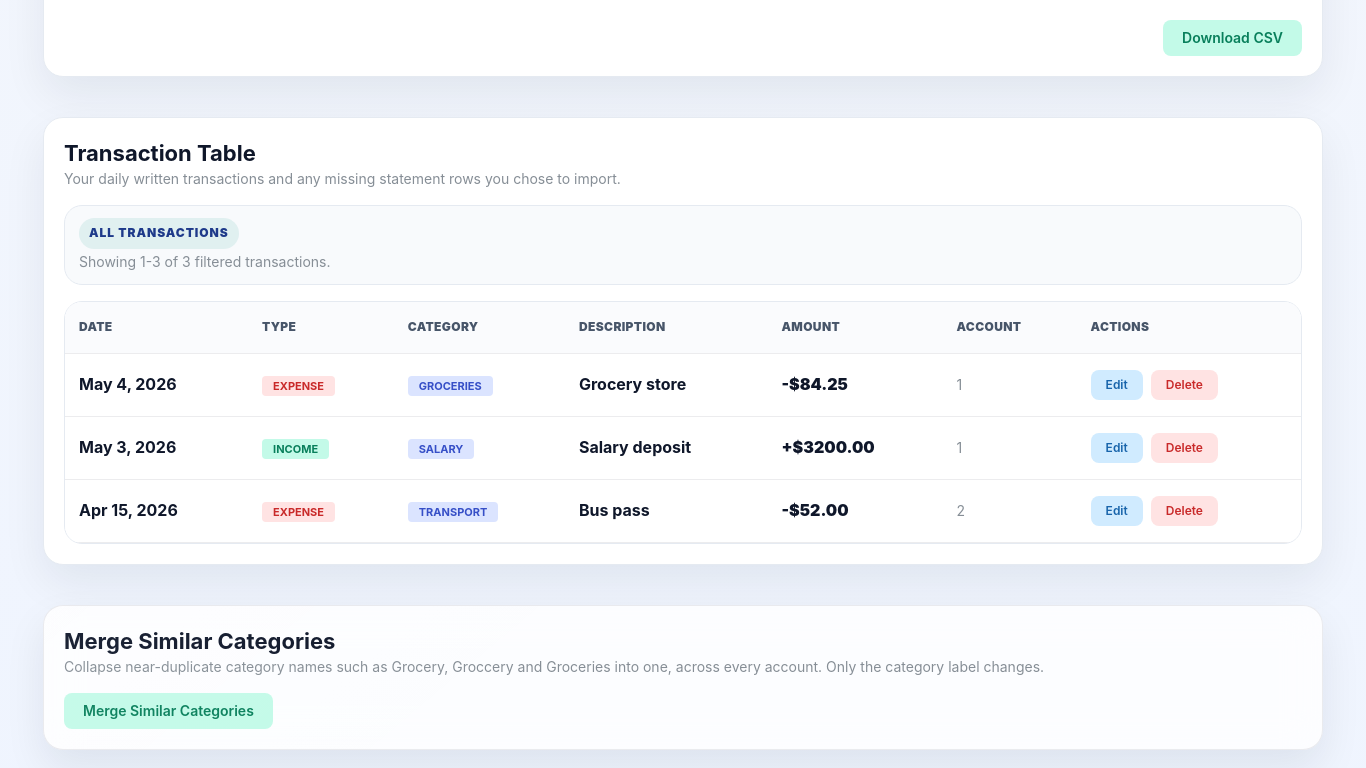
Test case: TransactionsPage › edits a transaction from the table and refreshes the ledger
The image size is (1366, 768).
(page scrolled)
Expected: the text "Grocery store" is shown, [579,374,686,394]
Expected: the text "Salary deposit" is shown, [579,437,691,457]
Click the button "Edit" in the row of "May 4, 2026": (1117, 385) [1091,370,1143,400]
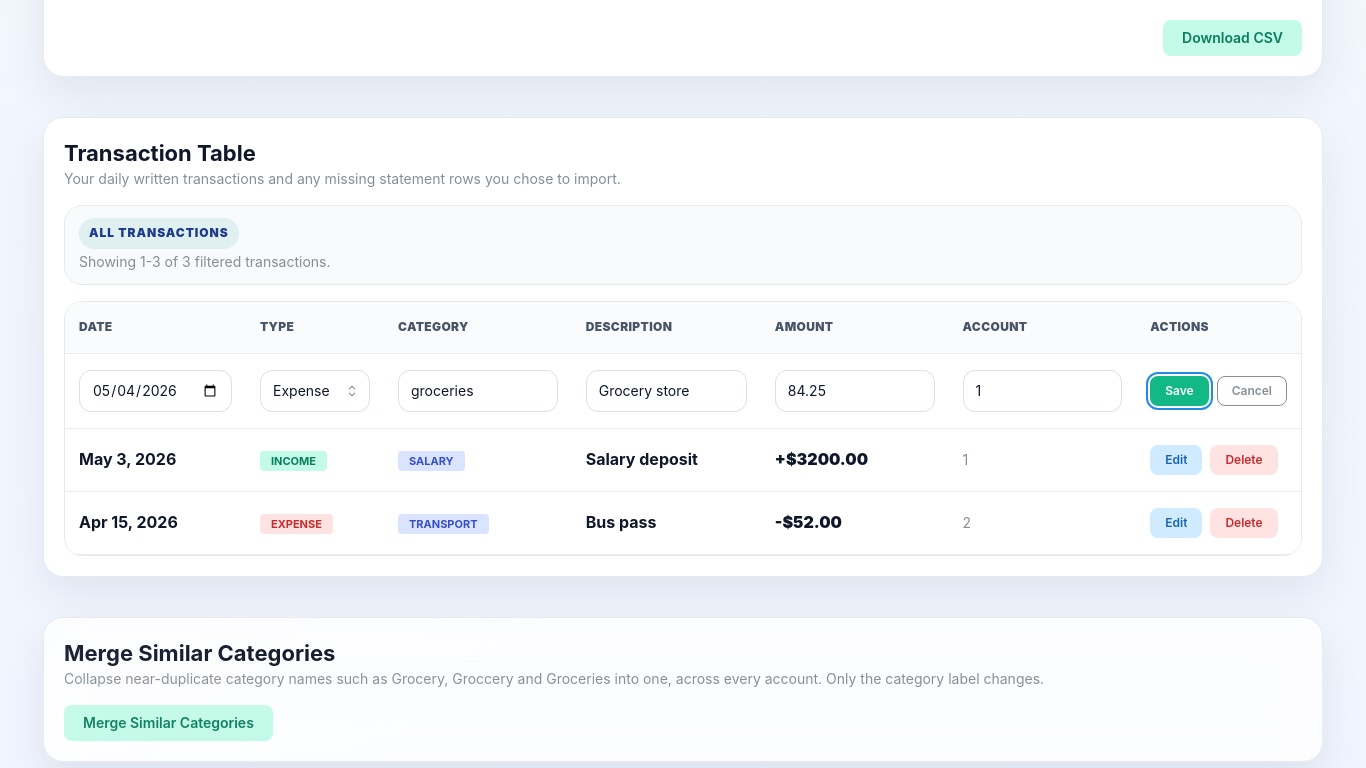
Replace the text in the 1st number field showing "84.25" with "42.75": (855, 391) [775,370,934,412]
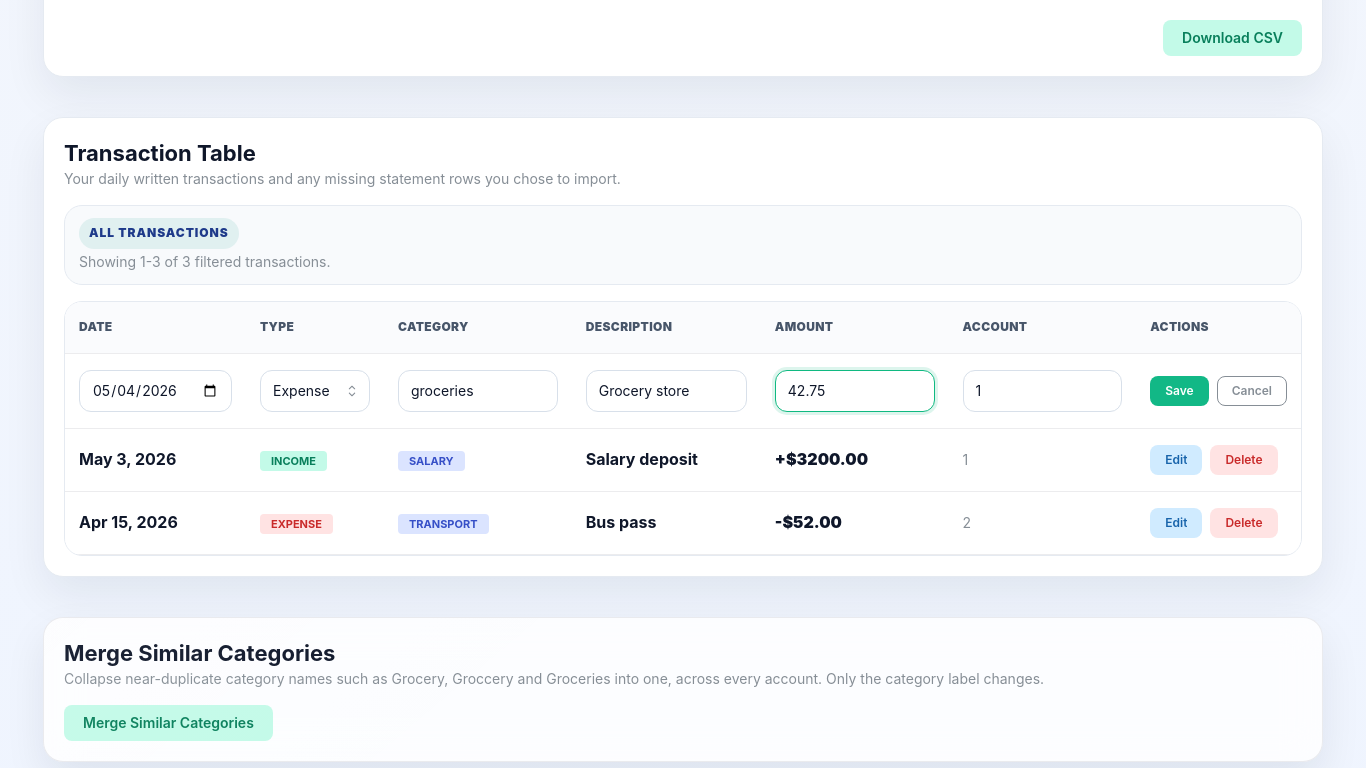
Replace the text in the 1st field showing "groceries" with "restaurant": (478, 391) [398,370,558,412]
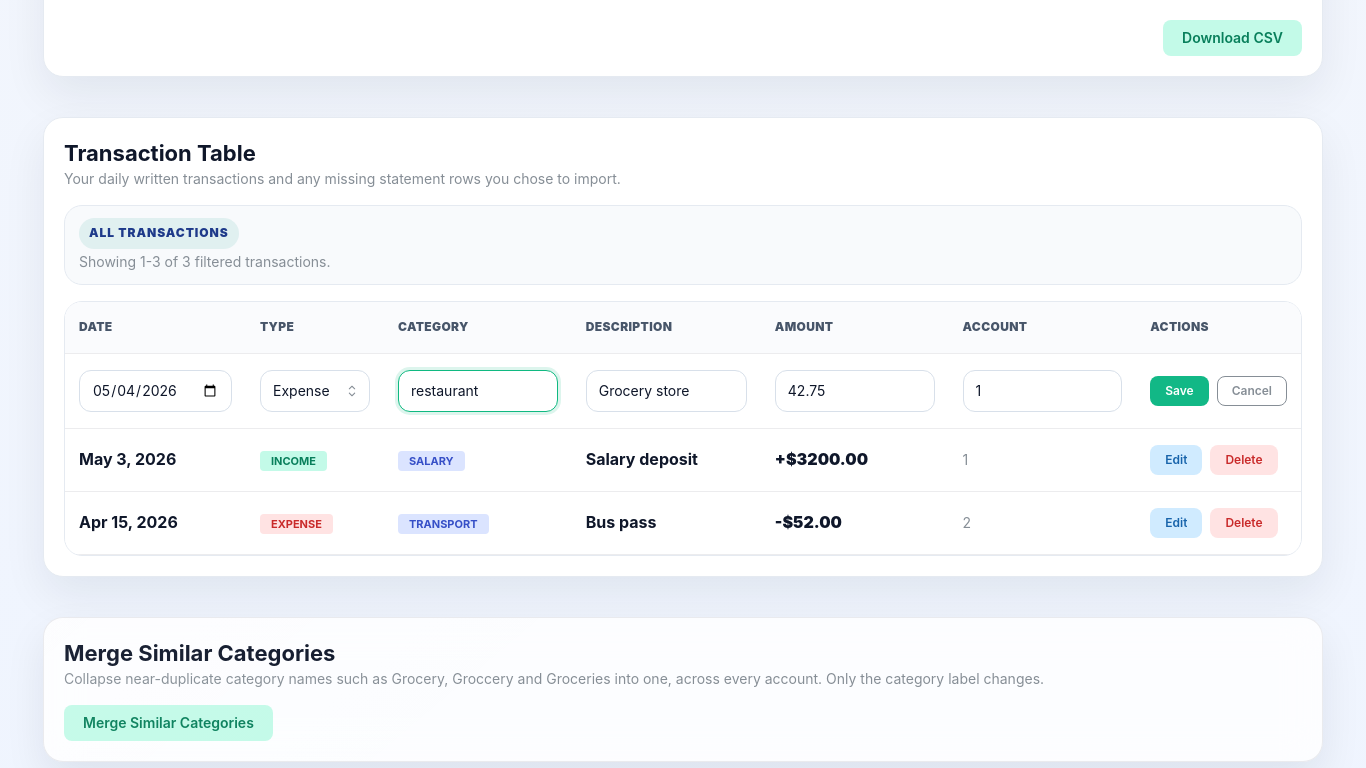
Replace the text in the 2nd field showing "Grocery store" with "Lunch meeting": (666, 391) [586,370,747,412]
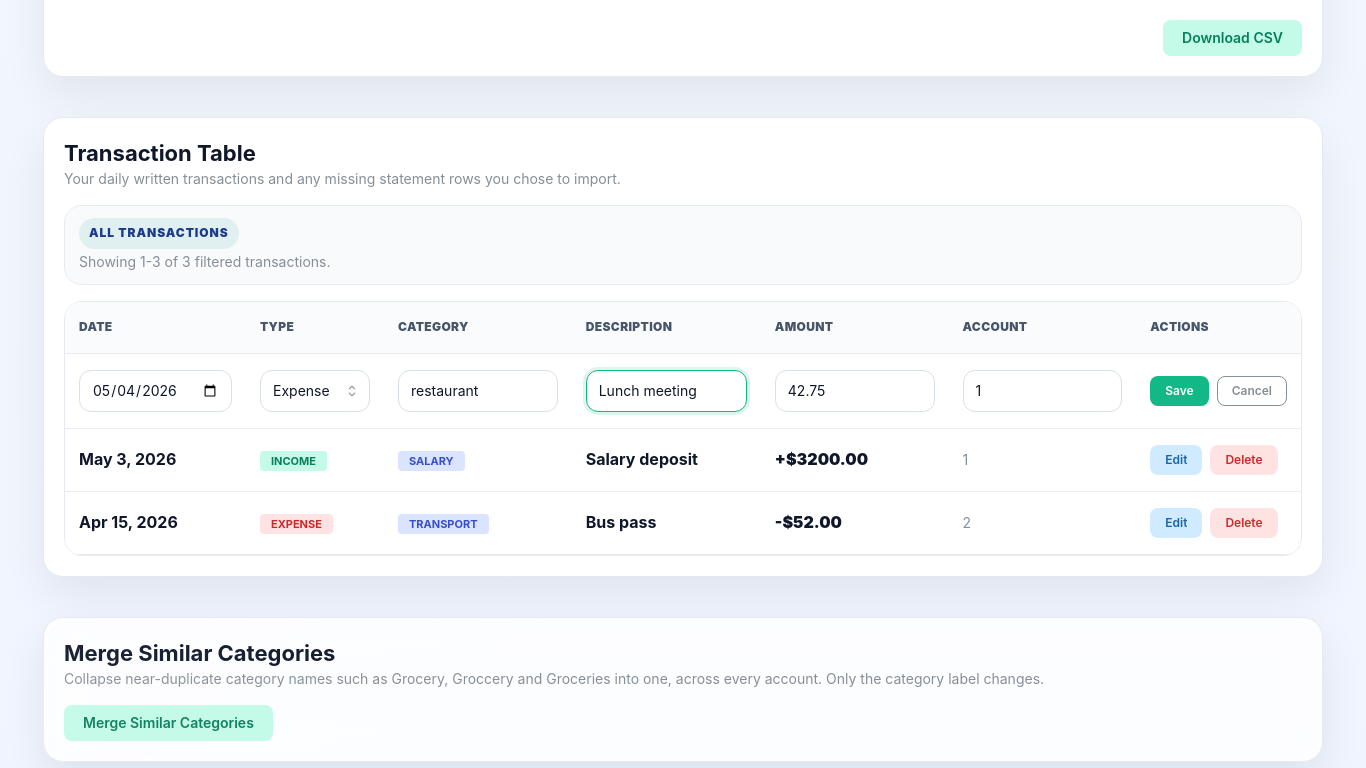
In the date field showing "2026-05-04": (156, 391) [79,370,232,412], type "2026-05-10"
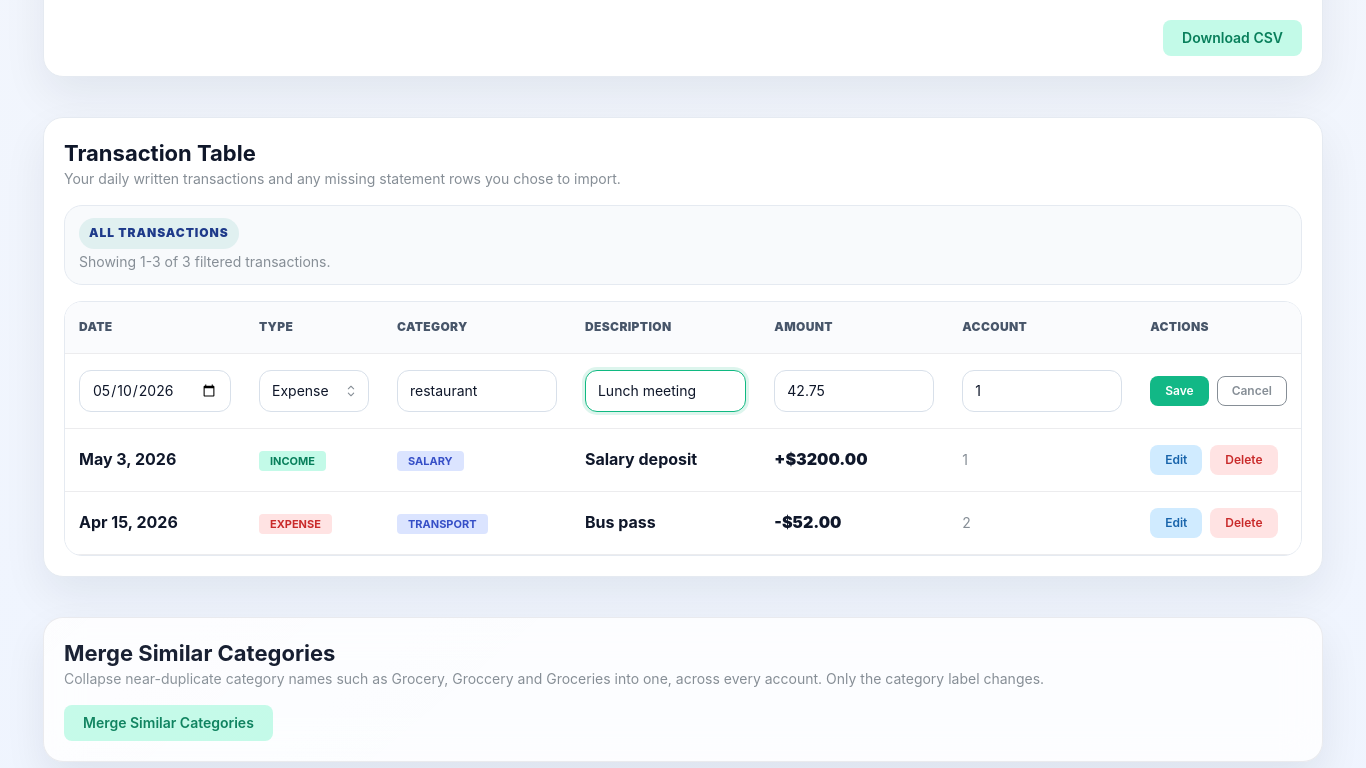
Click the button "Save": (1179, 391) [1150,376,1209,406]
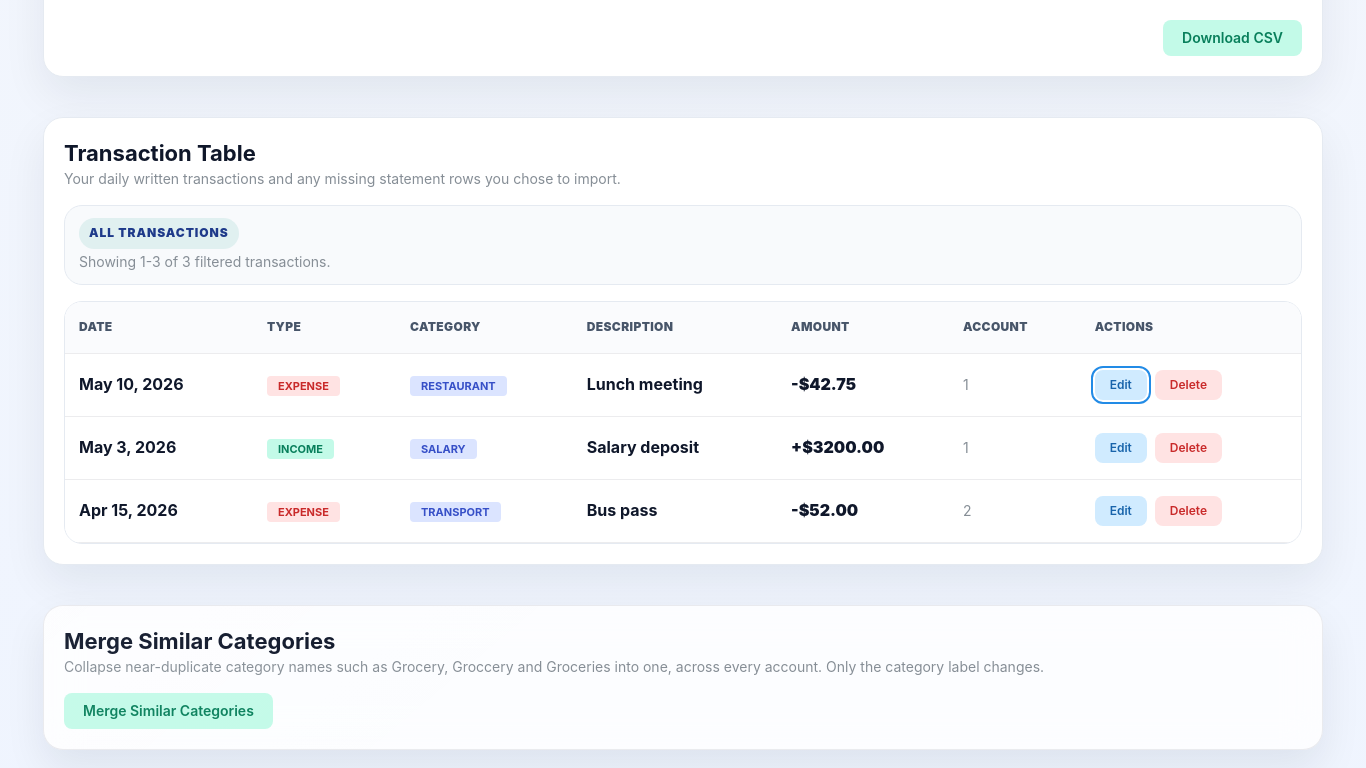
Expected: the text "Grocery store" is not shown
Expected: the text "Lunch meeting" is shown, [587,374,703,394]
